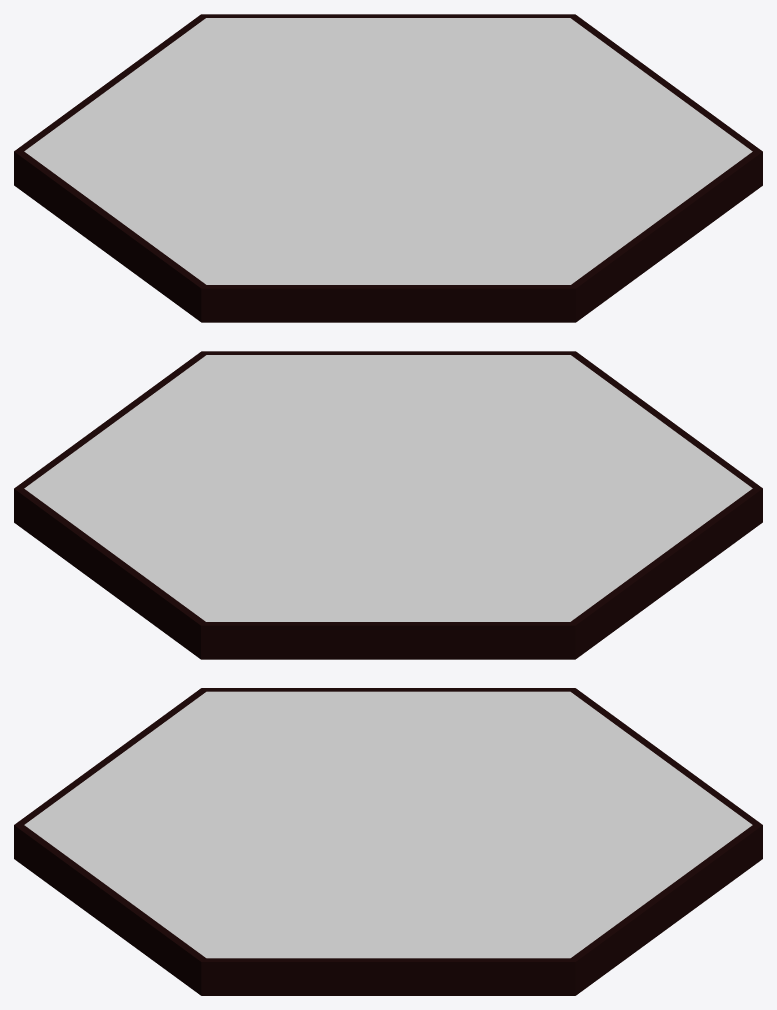
The model's file is Hexagone.fbx.
3 views of the same model, one above another, from view 1: azimuth 30°, elevation 25°; view 2: azimuth 150°, elevation 25°; view 3: azimuth 270°, elevation 25° (orthographic).
Visible parts, largest first — view 1: Hexagone; view 2: Hexagone; view 3: Hexagone.
Part boxes in pixels (x1,y1,x2,y2): Hexagone: (14, 14, 762, 322); Hexagone: (14, 351, 762, 659); Hexagone: (14, 688, 762, 995).
Size of the model in its own units: 173 by 10 by 200.
